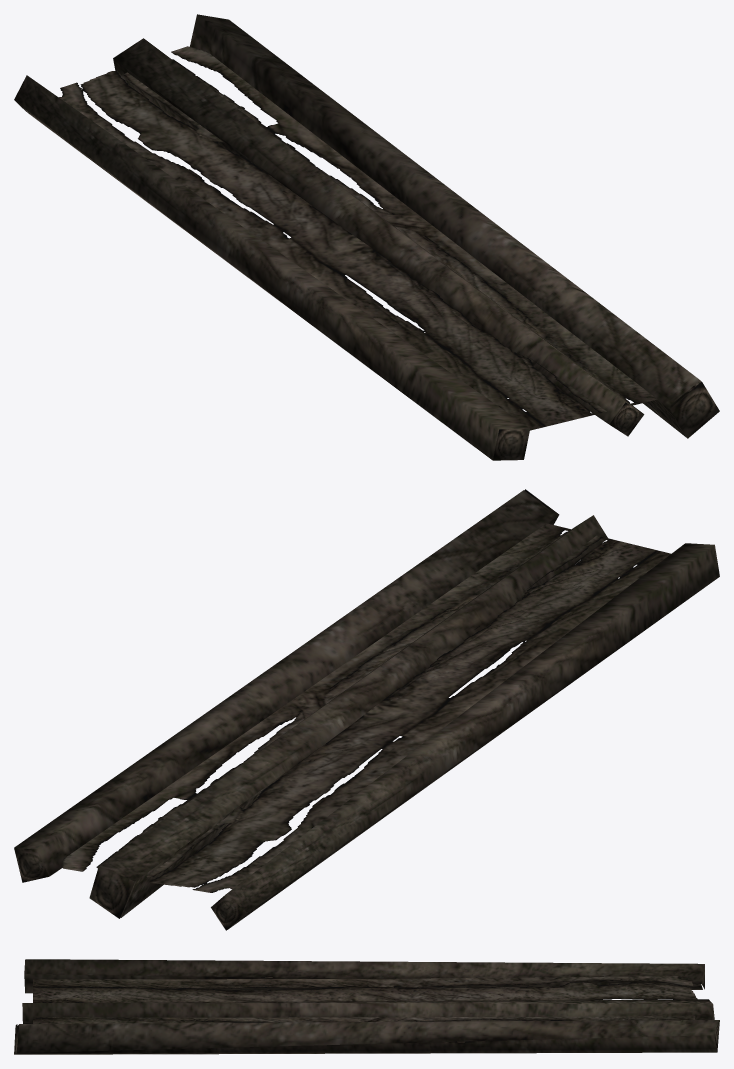
File: MEP_Wall_03.fbx
3 renders of one model, top to bottom at view 1: azimuth 30°, elevation 25°; view 2: azimuth 150°, elevation 25°; view 3: azimuth 270°, elevation 25°, orthographic. The views are drawn at different scales.
Visible parts, largest first — view 1: MEP_Wall_03; view 2: MEP_Wall_03; view 3: MEP_Wall_03.
Boxes of the visible parts, x1,y1,x2,y2 form: MEP_Wall_03: (14, 14, 719, 460); MEP_Wall_03: (14, 489, 719, 930); MEP_Wall_03: (14, 959, 719, 1054).
Bounding box in the file's own units: 1.42 × 0.3295 × 5.47.
